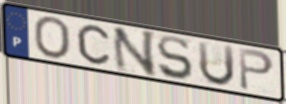C: (75, 24, 112, 67)
N: (110, 26, 158, 79)
O: (32, 16, 72, 61)
P: (238, 46, 277, 93)
S: (155, 35, 195, 82)
U: (196, 39, 237, 88)
